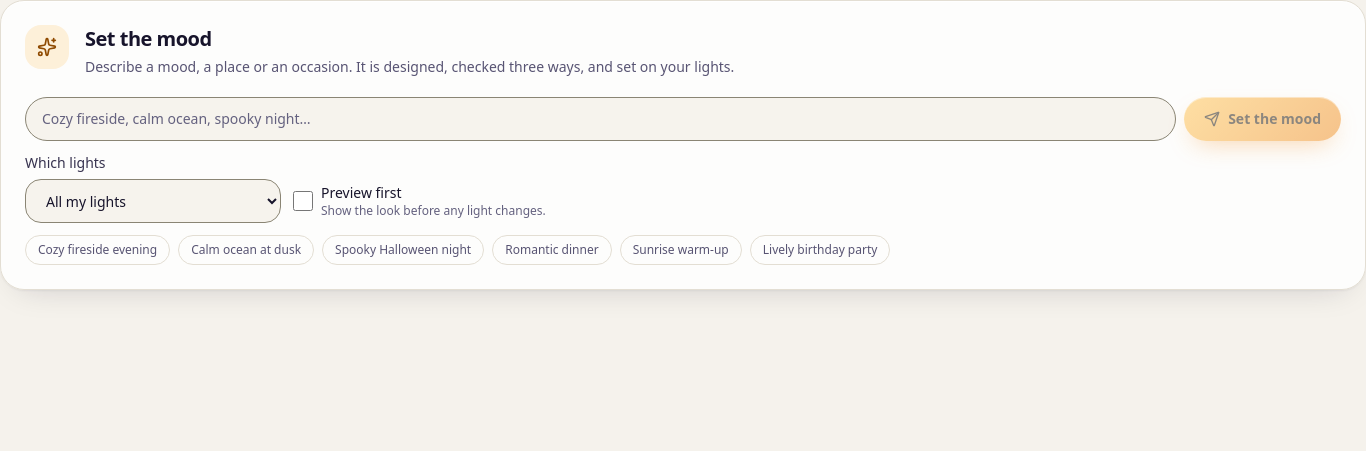
it: Set the mood: the box › shows why a mood could not be made, and sends nothing to the lights
The width and height of the screenshot is (1366, 451).
Type "cozy fireside evening" into the field named "Describe the mood".
click(601, 119); type("cozy fireside evening")  # box top-left (25, 97), bottom-right (1176, 141)
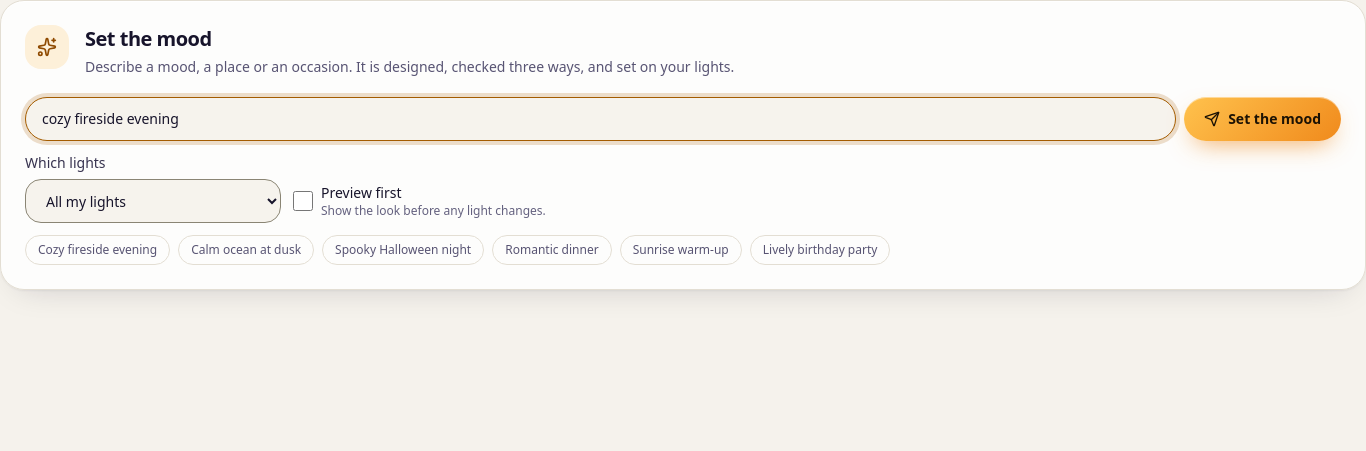
Click the button "Set the mood".
click(1263, 119)  # box top-left (1184, 97), bottom-right (1341, 141)
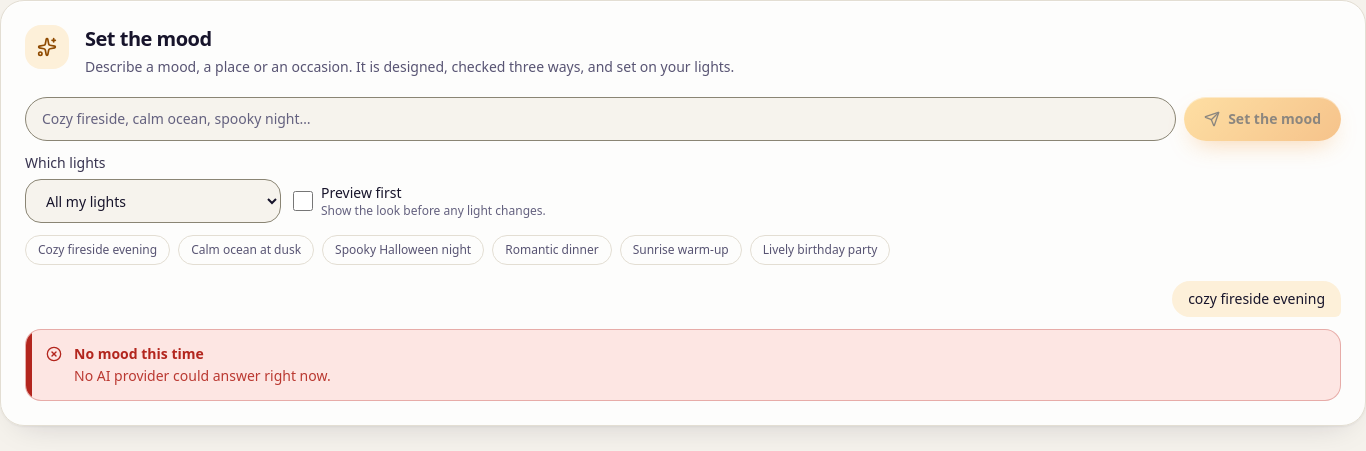
Check: the text "No mood this time" is shown, box top-left (74, 344), bottom-right (204, 363)
Check: the text "No AI provider could answer right now." is shown, box top-left (74, 366), bottom-right (331, 385)
